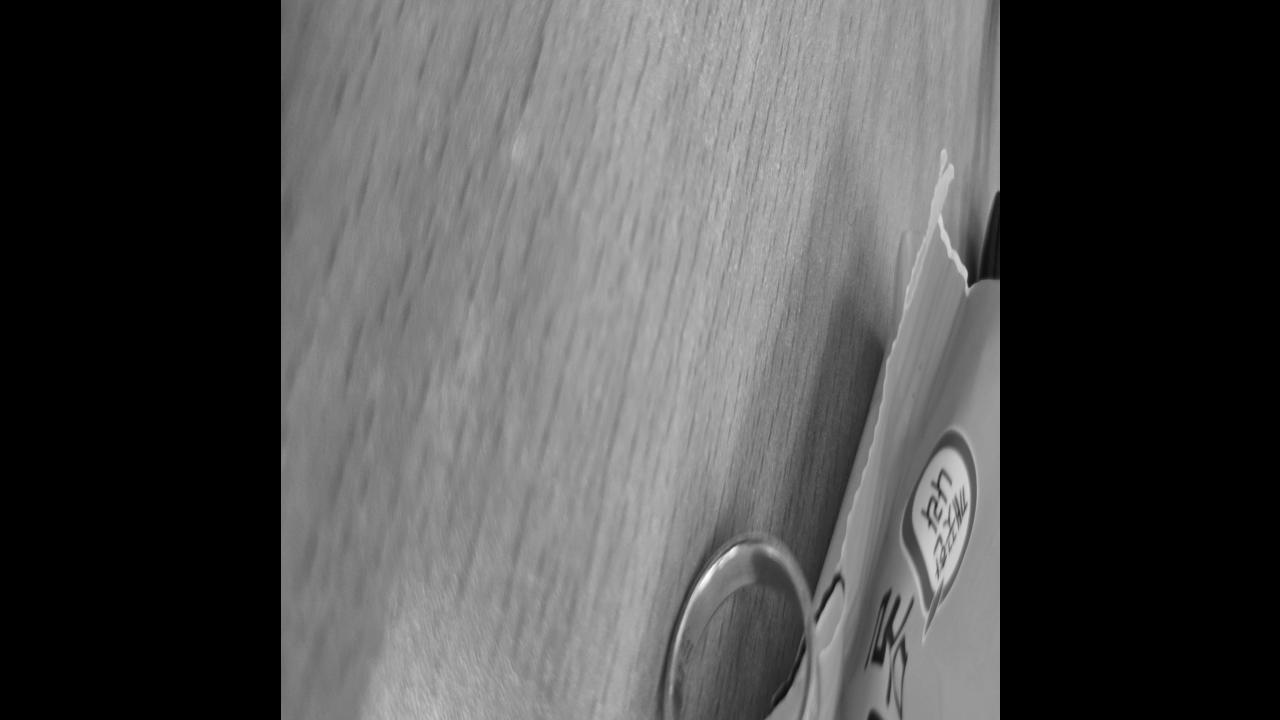ring: (660, 530, 820, 720)
